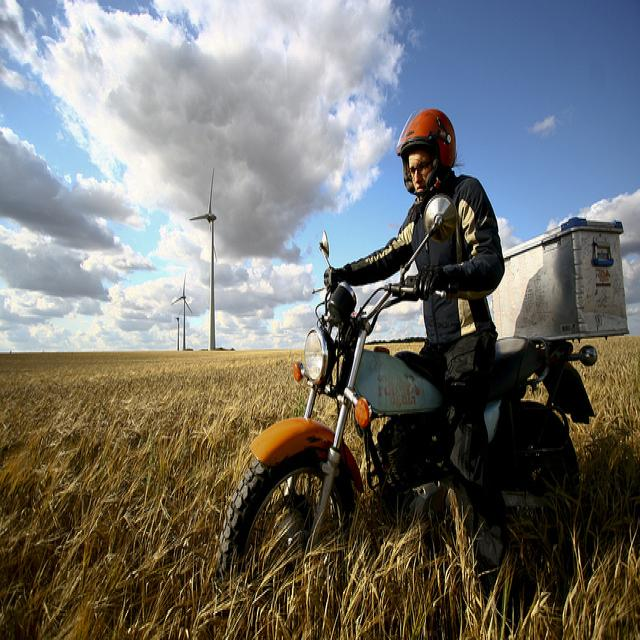motor: (218, 202, 596, 580)
